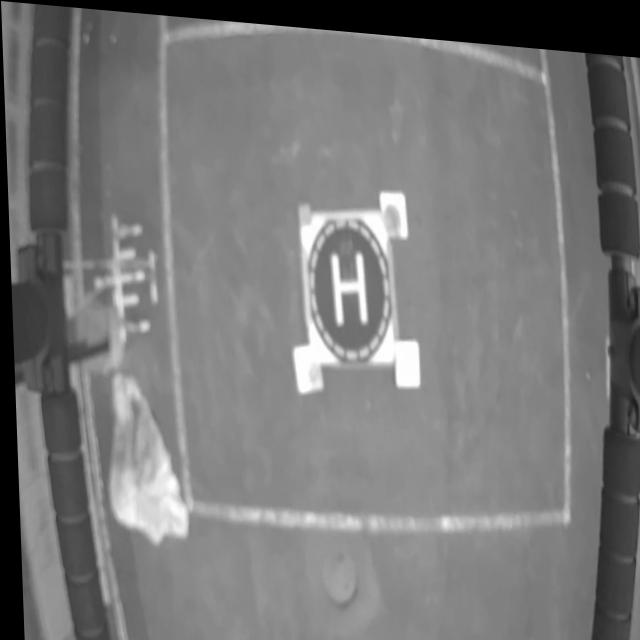Helipad: (327, 244, 364, 323)
